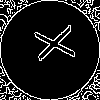X: (25, 25, 76, 65)
